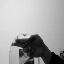h: (14, 33, 47, 59)
